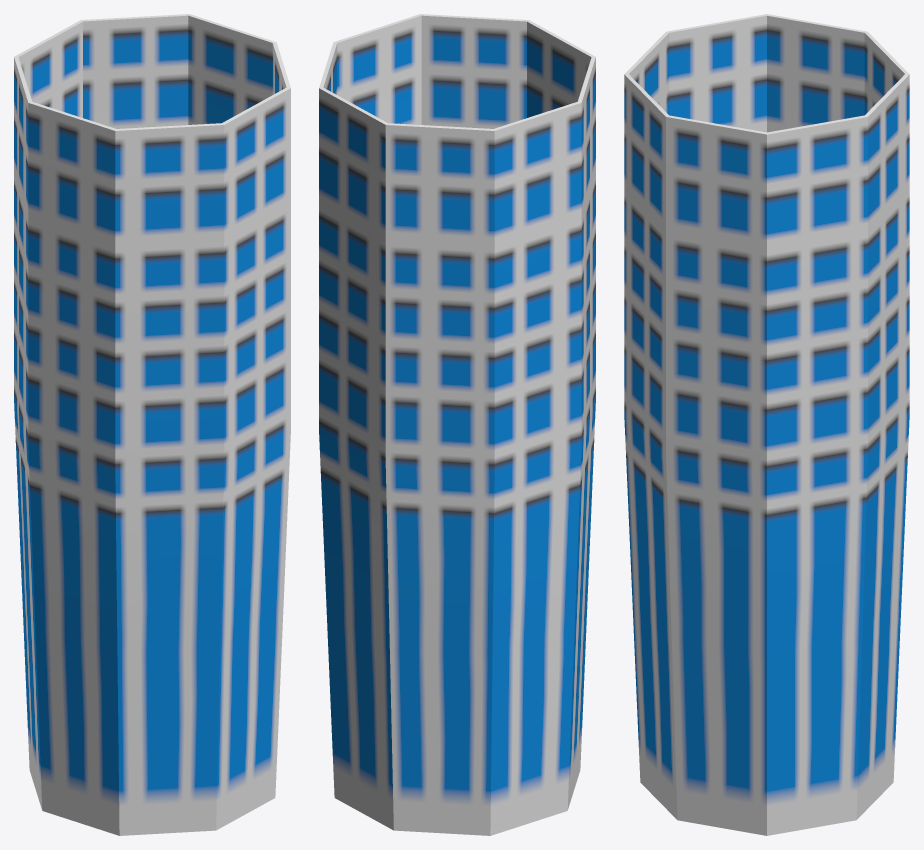
File: JuiceCupCA.fbx
The picture shows the model from 3 angles, left to right: view 1: azimuth 30°, elevation 25°; view 2: azimuth 150°, elevation 25°; view 3: azimuth 270°, elevation 25°; orthographic projection.
Parts seen in each view (by area): view 1: JuiceCupCA; view 2: JuiceCupCA; view 3: JuiceCupCA.
Part boxes in pixels (bbox=[...]): JuiceCupCA: bbox=[14, 14, 290, 835]; JuiceCupCA: bbox=[319, 14, 595, 835]; JuiceCupCA: bbox=[624, 14, 909, 835].
Bounding box in the file's own units: 102 × 280 × 102.
